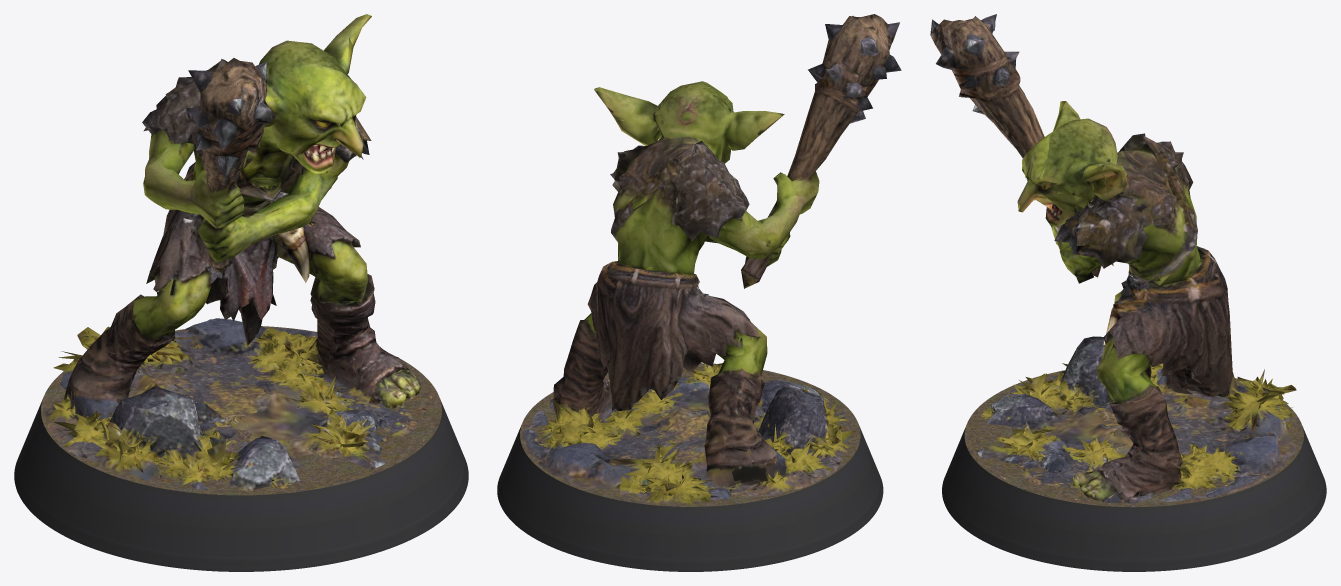
File: goblin.glb
The picture shows the model from 3 angles, left to right: view 1: azimuth 30°, elevation 25°; view 2: azimuth 150°, elevation 25°; view 3: azimuth 270°, elevation 25°; orthographic projection. The views are drawn at different scales.
Size of the model in its own units: 0.805 by 1 by 0.8293.
3 materials, 3 textured.
